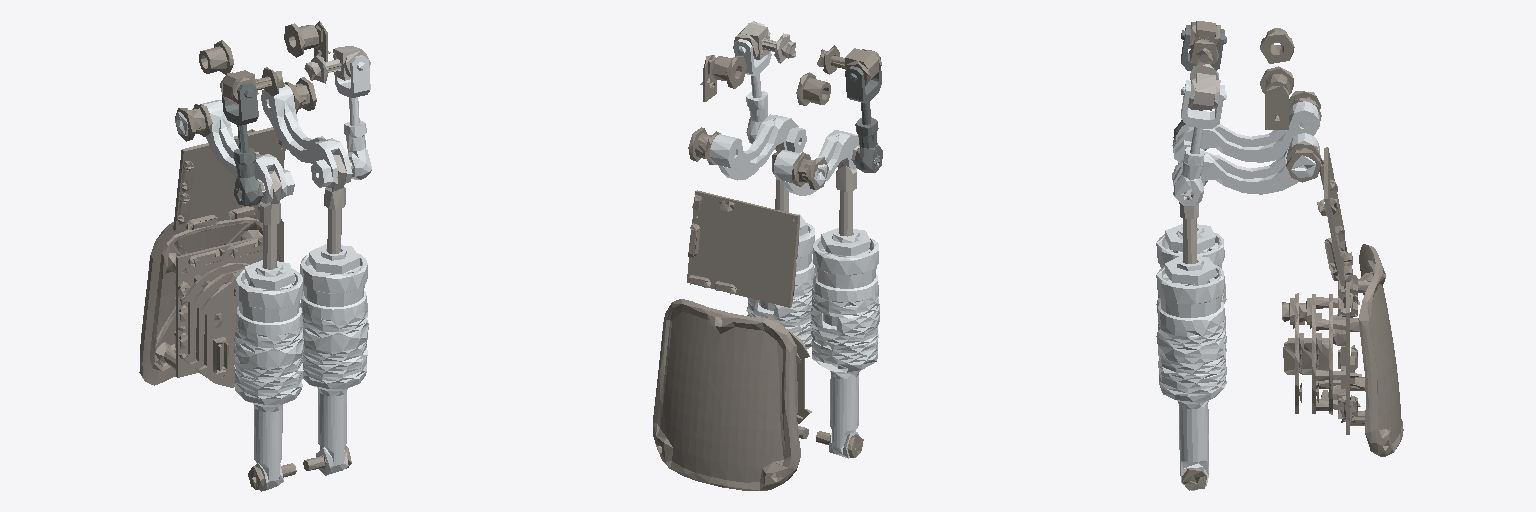
The robot description file, URDF, robot "left_wrist_mechanism":
<robot name="left_wrist_mechanism">
  <joint name="ALWristAL1" type="revolute">
    <origin xyz="0.0155 -0.034 -0.178" rpy="1.5885 0.0 0.0"/>
    <axis xyz="1.0 0.0 0.0"/>
    <parent link="ALWristRoot_Link"/>
    <child link="ALWristAL1_Link"/>
    <limit effort="400.0" lower="-1.57" upper="1.57" velocity="3.1415926"/>
  </joint>
  <link name="ALWristAL1_Link">
    <inertial>
      <origin xyz="4.69848839836778e-06 0.0605130022183077 8.23954439692215e-05" rpy="0.0 0.0 0.0"/>
      <mass value="0.110279568172128"/>
      <inertia ixx="1.426060228931759e-05" ixy="-1.1829530729395678e-10" ixz="-1.5559842262297789e-09" iyy="1.0001497220685684e-05" iyz="-8.070848171024899e-08" izz="1.4350648635894694e-05"/>
    </inertial>
    <visual name="ALWristAL1_Link_Visual">
      <origin xyz="0.0 0.0 0.0" rpy="0.0 0.0 0.0"/>
      <geometry>
        <mesh filename="../meshes/lfs-stl/ALWrist_AL1_Link.stl"/>
      </geometry>
      <material name="">
        <color rgba="0.898039215686275 0.917647058823529 0.929411764705882 1.0"/>
      </material>
    </visual>
    <collision name="ALWristAL1_Link_Collision">
      <origin xyz="0.0 0.0 0.0" rpy="0.0 0.0 0.0"/>
      <geometry>
        <mesh filename="../meshes/lfs-stl/ALWrist_AL1_Link_convexhull.stl" scale="1.0 1.0 1.0"/>
      </geometry>
    </collision>
  </link>
  <joint name="ALWristAR1" type="revolute">
    <origin xyz="-0.0155 -0.034 -0.178" rpy="1.5885 0.0 0.0"/>
    <axis xyz="1.0 0.0 0.0"/>
    <parent link="ALWristRoot_Link"/>
    <child link="ALWristAR1_Link"/>
    <limit effort="400.0" lower="-1.57" upper="1.57" velocity="3.1415926"/>
  </joint>
  <link name="ALWristAR1_Link">
    <inertial>
      <origin xyz="1.0632e-07 0.058479 9.3561e-05" rpy="0.0 0.0 0.0"/>
      <mass value="0.10113"/>
      <inertia ixx="1.4212213742562422e-05" ixy="-1.1886000000000004e-10" ixz="-1.4829999999999594e-10" iyy="1.000151374256242e-05" iyz="-8.070899999999586e-08" izz="1.4303213742562425e-05"/>
    </inertial>
    <visual name="ALWristAR1_Link_Visual">
      <origin xyz="0.0 0.0 0.0" rpy="0.0 0.0 0.0"/>
      <geometry>
        <mesh filename="../meshes/lfs-stl/ALWrist_AR1_Link.stl"/>
      </geometry>
      <material name="">
        <color rgba="0.89804 0.91765 0.92941 1.0"/>
      </material>
    </visual>
    <collision name="ALWristAR1_Link_Collision">
      <origin xyz="0.0 0.0 0.0" rpy="0.0 0.0 0.0"/>
      <geometry>
        <mesh filename="../meshes/lfs-stl/ALWrist_AR1_Link_convexhull.stl" scale="1.0 1.0 1.0"/>
      </geometry>
    </collision>
  </link>
  <joint name="ALWristActL" type="prismatic">
    <origin xyz="0.0 0.13346 0.0" rpy="-1.5708 0.0 0.0"/>
    <axis xyz="0.0 0.0 1.0"/>
    <parent link="ALWristAL1_Link"/>
    <child link="ALWristActL_Link"/>
    <limit effort="400.0" lower="-1.57" upper="1.57" velocity="3.1415926"/>
  </joint>
  <link name="ALWristActL_Link">
    <inertial>
      <origin xyz="1.6961e-10 -3.3309e-11 -0.049176" rpy="0.0 0.0 0.0"/>
      <mass value="0.022415"/>
      <inertia ixx="2.2515570000000003e-05" ixy="-8.666700000001066e-16" ixz="7.960299999999999e-17" iyy="2.2496570000000005e-05" iyz="2.9215000273952845e-15" izz="1e-05"/>
    </inertial>
    <visual name="ALWristActL_Link_Visual">
      <origin xyz="0.0 0.0 0.0" rpy="0.0 0.0 0.0"/>
      <geometry>
        <mesh filename="../meshes/lfs-stl/ALWrist_ActL_Link.stl"/>
      </geometry>
      <material name="">
        <color rgba="0.77647 0.75686 0.73725 1.0"/>
      </material>
    </visual>
    <collision name="ALWristActL_Link_Collision">
      <origin xyz="0.0 0.0 0.0" rpy="0.0 0.0 0.0"/>
      <geometry>
        <mesh filename="../meshes/lfs-stl/ALWrist_ActL_Link_convexhull.stl" scale="1.0 1.0 1.0"/>
      </geometry>
    </collision>
  </link>
  <joint name="ALWristActR" type="prismatic">
    <origin xyz="0.0 0.13346 0.0" rpy="-1.5708 0.0 0.0"/>
    <axis xyz="0.0 0.0 1.0"/>
    <parent link="ALWristAR1_Link"/>
    <child link="ALWristActR_Link"/>
    <limit effort="400.0" lower="-1.57" upper="1.57" velocity="3.1415926"/>
  </joint>
  <link name="ALWristActR_Link">
    <inertial>
      <origin xyz="-2.50423902101171e-10 -5.99230387532401e-12 -0.0491763872735069" rpy="0.0 0.0 0.0"/>
      <mass value="0.0224154782060298"/>
      <inertia ixx="2.251577391703877e-05" ixy="-8.666685437716609e-16" ixz="7.959775514672119e-17" iyy="2.249645939989927e-05" iyz="2.9215994791528672e-15" izz="1e-05"/>
    </inertial>
    <visual name="ALWristActR_Link_Visual">
      <origin xyz="0.0 0.0 0.0" rpy="0.0 0.0 0.0"/>
      <geometry>
        <mesh filename="../meshes/lfs-stl/ALWrist_ActR_Link.stl"/>
      </geometry>
      <material name="">
        <color rgba="0.776470588235294 0.756862745098039 0.737254901960784 1.0"/>
      </material>
    </visual>
    <collision name="ALWristActR_Link_Collision">
      <origin xyz="0.0 0.0 0.0" rpy="0.0 0.0 0.0"/>
      <geometry>
        <mesh filename="../meshes/lfs-stl/ALWrist_ActR_Link_convexhull.stl" scale="1.0 1.0 1.0"/>
      </geometry>
    </collision>
  </link>
  <joint name="ALWristBL0" type="revolute">
    <origin xyz="0.0 0.0 0.045018" rpy="0.0 0.0 0.0"/>
    <axis xyz="1.0 0.0 0.0"/>
    <parent link="ALWristBL3_Link"/>
    <child link="ALWristBL0_Link"/>
    <limit effort="400.0" lower="-1.57" upper="1.57" velocity="3.1415926"/>
  </joint>
  <link name="ALWristBL0_Link">
    <inertial>
      <origin xyz="0.0 0.0 0.0" rpy="0.0 0.0 0.0"/>
      <mass value="1e-05"/>
      <inertia ixx="1e-05" ixy="0.0" ixz="0.0" iyy="1e-05" iyz="0.0" izz="1e-05"/>
    </inertial>
  </link>
  <joint name="ALWristBL1" type="revolute">
    <origin xyz="0.0155 0.011 -0.032" rpy="-2.8824 0.0 0.0"/>
    <axis xyz="1.0 0.0 0.0"/>
    <parent link="ALWristRoot_Link"/>
    <child link="ALWristBL1_Link"/>
    <limit effort="400.0" lower="-1.57" upper="1.57" velocity="3.1415926"/>
  </joint>
  <link name="ALWristBL1_Link">
    <inertial>
      <origin xyz="0.0019151 0.02635 0.0010414" rpy="0.0 0.0 0.0"/>
      <mass value="0.024008"/>
      <inertia ixx="1.3690309326298155e-05" ixy="-2.58529999998267e-13" ixz="-8.119499999914014e-14" iyy="1.0041289326298152e-05" iyz="3.8667999999999843e-07" izz="1.3621309326298154e-05"/>
    </inertial>
    <visual name="ALWristBL1_Link_Visual">
      <origin xyz="0.0 0.0 0.0" rpy="0.0 0.0 0.0"/>
      <geometry>
        <mesh filename="../meshes/lfs-stl/ALWrist_BL1_Link.stl"/>
      </geometry>
      <material name="">
        <color rgba="0.89804 0.91765 0.92941 1.0"/>
      </material>
    </visual>
    <collision name="ALWristBL1_Link_Collision">
      <origin xyz="0.0 0.0 0.0" rpy="0.0 0.0 0.0"/>
      <geometry>
        <mesh filename="../meshes/lfs-stl/ALWrist_BL1_Link_convexhull.stl" scale="1.0 1.0 1.0"/>
      </geometry>
    </collision>
  </link>
  <joint name="ALWristBL2" type="revolute">
    <origin xyz="0.0 0.0 0.0" rpy="0.0 0.0 0.0"/>
    <axis xyz="0.0 1.0 0.0"/>
    <parent link="ALWristBL0_Link"/>
    <child link="ALWristBL2_Link"/>
    <limit effort="400.0" lower="-1.57" upper="1.57" velocity="3.1415926"/>
  </joint>
  <link name="ALWristBL2_Link">
    <inertial>
      <origin xyz="-0.00285895892979633 1.59419756701196e-08 4.93600032917541e-05" rpy="0.0 0.0 0.0"/>
      <mass value="0.00373058333172257"/>
      <inertia ixx="1.0000022086306678e-05" ixy="-2.1170777449156144e-13" ixz="1.2800661535321242e-09" iyy="1.0074214747460805e-05" iyz="-3.1071812995088624e-13" izz="1.0074189380048775e-05"/>
    </inertial>
    <visual name="ALWristBL2_Link_Visual">
      <origin xyz="0.0 0.0 0.0" rpy="0.0 0.0 0.0"/>
      <geometry>
        <mesh filename="../meshes/lfs-stl/ALWrist_BL2_Link.stl"/>
      </geometry>
      <material name="">
        <color rgba="0.647058823529412 0.619607843137255 0.588235294117647 1.0"/>
      </material>
    </visual>
    <collision name="ALWristBL2_Link_Collision">
      <origin xyz="0.0 0.0 0.0" rpy="0.0 0.0 0.0"/>
      <geometry>
        <mesh filename="../meshes/lfs-stl/ALWrist_BL2_Link_convexhull.stl" scale="1.0 1.0 1.0"/>
      </geometry>
    </collision>
  </link>
  <joint name="ALWristBL3" type="revolute">
    <origin xyz="0.0 0.0 0.0" rpy="0.0 -0.017255 0.0"/>
    <axis xyz="0.0 1.0 0.0"/>
    <parent link="ALWristBL4_Link"/>
    <child link="ALWristBL3_Link"/>
    <limit effort="400.0" lower="-1.57" upper="1.57" velocity="3.1415926"/>
  </joint>
  <link name="ALWristBL3_Link">
    <inertial>
      <origin xyz="2.38502552360881e-05 4.66313256272666e-08 0.0283017467527962" rpy="0.0 0.0 0.0"/>
      <mass value="0.0163436688111198"/>
      <inertia ixx="1.0588437589385662e-05" ixy="2.6491888917750254e-12" ixz="3.971418402991697e-10" iyy="1.0442298027473029e-05" iyz="-1.0478564692762442e-11" izz="1.0000000268282943e-05"/>
    </inertial>
    <visual name="ALWristBL3_Link_Visual">
      <origin xyz="0.0 0.0 0.0" rpy="0.0 0.0 0.0"/>
      <geometry>
        <mesh filename="../meshes/lfs-stl/ALWrist_BL3_Link.stl"/>
      </geometry>
      <material name="">
        <color rgba="0.898039215686275 0.917647058823529 0.929411764705882 1.0"/>
      </material>
    </visual>
    <collision name="ALWristBL3_Link_Collision">
      <origin xyz="0.0 0.0 0.0" rpy="0.0 0.0 0.0"/>
      <geometry>
        <mesh filename="../meshes/lfs-stl/ALWrist_BL3_Link_convexhull.stl" scale="1.0 1.0 1.0"/>
      </geometry>
    </collision>
  </link>
  <joint name="ALWristBL4" type="revolute">
    <origin xyz="0.027 -0.03 0.0" rpy="2.9998 0.0 0.0"/>
    <axis xyz="1.0 0.0 0.0"/>
    <parent link="ALWristYaw_Link"/>
    <child link="ALWristBL4_Link"/>
    <limit effort="400.0" lower="-1.57" upper="1.57" velocity="3.1415926"/>
  </joint>
  <link name="ALWristBL4_Link">
    <inertial>
      <origin xyz="-0.00221364330903131 4.35096403350599e-12 -8.57685450439405e-13" rpy="0.0 0.0 0.0"/>
      <mass value="0.0116530368127355"/>
      <inertia ixx="1e-05" ixy="1.5953378838595036e-20" ixz="3.4058691933577745e-19" iyy="1.027752247888744e-05" iyz="-9.076929593055545e-16" izz="1.0188830976875939e-05"/>
    </inertial>
    <visual name="ALWristBL4_Link_Visual">
      <origin xyz="0.0 0.0 0.0" rpy="0.0 0.0 0.0"/>
      <geometry>
        <mesh filename="../meshes/lfs-stl/ALWrist_BL4_Link.stl"/>
      </geometry>
      <material name="">
        <color rgba="0.776470588235294 0.756862745098039 0.737254901960784 1.0"/>
      </material>
    </visual>
    <collision name="ALWristBL4_Link_Collision">
      <origin xyz="0.0 0.0 0.0" rpy="0.0 0.0 0.0"/>
      <geometry>
        <mesh filename="../meshes/lfs-stl/ALWrist_BL4_Link_convexhull.stl" scale="1.0 1.0 1.0"/>
      </geometry>
    </collision>
  </link>
  <joint name="ALWristBR0" type="revolute">
    <origin xyz="0.0 0.0 0.045018" rpy="0.0 0.0 0.0"/>
    <axis xyz="1.0 0.0 0.0"/>
    <parent link="ALWristBR3_Link"/>
    <child link="ALWristBR0_Link"/>
    <limit effort="400.0" lower="-1.57" upper="1.57" velocity="3.1415926"/>
  </joint>
  <link name="ALWristBR0_Link">
    <inertial>
      <origin xyz="0.0 0.0 0.0" rpy="0.0 0.0 0.0"/>
      <mass value="1e-05"/>
      <inertia ixx="1e-05" ixy="0.0" ixz="0.0" iyy="1e-05" iyz="0.0" izz="1e-05"/>
    </inertial>
  </link>
  <joint name="ALWristBR1" type="revolute">
    <origin xyz="-0.0155 0.011 -0.032" rpy="-2.8824 0.0 0.0"/>
    <axis xyz="1.0 0.0 0.0"/>
    <parent link="ALWristRoot_Link"/>
    <child link="ALWristBR1_Link"/>
    <limit effort="400.0" lower="-1.57" upper="1.57" velocity="3.1415926"/>
  </joint>
  <link name="ALWristBR1_Link">
    <inertial>
      <origin xyz="-0.0019151 0.02635 0.0010414" rpy="0.0 0.0 0.0"/>
      <mass value="0.024008"/>
      <inertia ixx="1.3690545308238603e-05" ixy="-1.148899999986299e-13" ixz="3.822099999976209e-14" iyy="1.0041345308238603e-05" iyz="3.8696e-07" izz="1.3621645308238606e-05"/>
    </inertial>
    <visual name="ALWristBR1_Link_Visual">
      <origin xyz="0.0 0.0 0.0" rpy="0.0 0.0 0.0"/>
      <geometry>
        <mesh filename="../meshes/lfs-stl/ALWrist_BR1_Link.stl"/>
      </geometry>
      <material name="">
        <color rgba="0.89804 0.91765 0.92941 1.0"/>
      </material>
    </visual>
    <collision name="ALWristBR1_Link_Collision">
      <origin xyz="0.0 0.0 0.0" rpy="0.0 0.0 0.0"/>
      <geometry>
        <mesh filename="../meshes/lfs-stl/ALWrist_BR1_Link_convexhull.stl" scale="1.0 1.0 1.0"/>
      </geometry>
    </collision>
  </link>
  <joint name="ALWristBR2" type="revolute">
    <origin xyz="0.0 0.0 0.0" rpy="0.0 0.0 0.0"/>
    <axis xyz="0.0 1.0 0.0"/>
    <parent link="ALWristBR0_Link"/>
    <child link="ALWristBR2_Link"/>
    <limit effort="400.0" lower="-1.57" upper="1.57" velocity="3.1415926"/>
  </joint>
  <link name="ALWristBR2_Link">
    <inertial>
      <origin xyz="-0.00285890746146323 2.16333476826813e-09 4.93604190743499e-05" rpy="0.0 0.0 0.0"/>
      <mass value="0.00373054475630146"/>
      <inertia ixx="1.000002209364975e-05" ixy="-1.3816128592343518e-13" ixz="1.2803063868888173e-09" iyy="1.0074212979026388e-05" iyz="-1.0109428273552697e-12" izz="1.0074192561095311e-05"/>
    </inertial>
    <visual name="ALWristBR2_Link_Visual">
      <origin xyz="0.0 0.0 0.0" rpy="0.0 0.0 0.0"/>
      <geometry>
        <mesh filename="../meshes/lfs-stl/ALWrist_BR2_Link.stl"/>
      </geometry>
      <material name="">
        <color rgba="0.647058823529412 0.619607843137255 0.588235294117647 1.0"/>
      </material>
    </visual>
    <collision name="ALWristBR2_Link_Collision">
      <origin xyz="0.0 0.0 0.0" rpy="0.0 0.0 0.0"/>
      <geometry>
        <mesh filename="../meshes/lfs-stl/ALWrist_BR2_Link_convexhull.stl" scale="1.0 1.0 1.0"/>
      </geometry>
    </collision>
  </link>
  <joint name="ALWristBR3" type="revolute">
    <origin xyz="0.0 0.0 0.0" rpy="0.0 -0.017255 0.0"/>
    <axis xyz="0.0 1.0 0.0"/>
    <parent link="ALWristBR4_Link"/>
    <child link="ALWristBR3_Link"/>
    <limit effort="400.0" lower="-1.57" upper="1.57" velocity="3.1415926"/>
  </joint>
  <link name="ALWristBR3_Link">
    <inertial>
      <origin xyz="2.38500712359466e-05 4.68942149695062e-08 0.0283017446065629" rpy="0.0 0.0 0.0"/>
      <mass value="0.0163436663117003"/>
      <inertia ixx="1.058843751107658e-05" ixy="3.883356249554021e-12" ixz="3.9714539909530543e-10" iyy="1.0442298557724912e-05" iyz="-9.93761778002401e-12" izz="1.0000000268262852e-05"/>
    </inertial>
    <visual name="ALWristBR3_Link_Visual">
      <origin xyz="0.0 0.0 0.0" rpy="0.0 0.0 0.0"/>
      <geometry>
        <mesh filename="../meshes/lfs-stl/ALWrist_BR3_Link.stl"/>
      </geometry>
      <material name="">
        <color rgba="0.529411764705882 0.549019607843137 0.549019607843137 1.0"/>
      </material>
    </visual>
    <collision name="ALWristBR3_Link_Collision">
      <origin xyz="0.0 0.0 0.0" rpy="0.0 0.0 0.0"/>
      <geometry>
        <mesh filename="../meshes/lfs-stl/ALWrist_BR3_Link_convexhull.stl" scale="1.0 1.0 1.0"/>
      </geometry>
    </collision>
  </link>
  <joint name="ALWristBR4" type="revolute">
    <origin xyz="-0.027 -0.03 0.0" rpy="-2.9998 0.0 -3.1416"/>
    <axis xyz="1.0 0.0 0.0"/>
    <parent link="ALWristYaw_Link"/>
    <child link="ALWristBR4_Link"/>
    <limit effort="400.0" lower="-1.57" upper="1.57" velocity="3.1415926"/>
  </joint>
  <link name="ALWristBR4_Link">
    <inertial>
      <origin xyz="-0.00221364330907749 -4.11274486689095e-12 8.10143618856785e-13" rpy="0.0 0.0 0.0"/>
      <mass value="0.0116530368127689"/>
      <inertia ixx="1e-05" ixy="-7.714431638365371e-20" ixz="-3.728723958847608e-19" iyy="1.027752247888592e-05" iyz="-9.04953782288128e-16" izz="1.018883097687764e-05"/>
    </inertial>
    <visual name="ALWristBR4_Link_Visual">
      <origin xyz="0.0 0.0 0.0" rpy="0.0 0.0 0.0"/>
      <geometry>
        <mesh filename="../meshes/lfs-stl/ALWrist_BR4_Link.stl"/>
      </geometry>
      <material name="">
        <color rgba="0.647058823529412 0.619607843137255 0.588235294117647 1.0"/>
      </material>
    </visual>
    <collision name="ALWristBR4_Link_Collision">
      <origin xyz="0.0 0.0 0.0" rpy="0.0 0.0 0.0"/>
      <geometry>
        <mesh filename="../meshes/lfs-stl/ALWrist_BR4_Link_convexhull.stl" scale="1.0 1.0 1.0"/>
      </geometry>
    </collision>
  </link>
  <joint name="ALWristPitch" type="revolute">
    <origin xyz="0.0 0.0 0.0" rpy="0.0 0.0 0.0"/>
    <axis xyz="1.0 0.0 0.0"/>
    <parent link="ALWristRoot_Link"/>
    <child link="ALWristPitch_Link"/>
    <limit effort="400.0" lower="-0.741" upper="1.75" velocity="3.1415926"/>
  </joint>
  <link name="ALWristPitch_Link">
    <inertial>
      <origin xyz="7.46248686255566e-19 -1.12543960307545e-16 -1.73472347597681e-18" rpy="0.0 0.0 0.0"/>
      <mass value="0.0303458029555441"/>
      <inertia ixx="1.0000000011242503e-05" ixy="-1.991593733750814e-21" ixz="1.3686128944734017e-10" iyy="1.0143779057796202e-05" iyz="1.3756897885334319e-10" izz="1.1666089364158581e-05"/>
    </inertial>
    <visual name="ALWristPitch_Link_Visual">
      <origin xyz="0.0 0.0 0.0" rpy="0.0 0.0 0.0"/>
      <geometry>
        <mesh filename="../meshes/lfs-stl/ALWristPitch_Link.stl"/>
      </geometry>
      <material name="">
        <color rgba="0.647058823529412 0.619607843137255 0.588235294117647 1.0"/>
      </material>
    </visual>
    <collision name="ALWristPitch_Link_Collision">
      <origin xyz="0.0 0.0 0.0" rpy="0.0 0.0 0.0"/>
      <geometry>
        <mesh filename="../meshes/lfs-stl/ALWristPitch_Link_convexhull.stl" scale="1.0 1.0 1.0"/>
      </geometry>
    </collision>
  </link>
  <link name="ALWristRoot_Link">
    <inertial>
      <origin xyz="-0.00087527 0.015651 -0.10982" rpy="0.0 0.0 0.0"/>
      <mass value="0.12307"/>
      <inertia ixx="1.6915e-05" ixy="-1.069e-08" ixz="-1.5838e-08" iyy="2.9632e-05" iyz="5.8916e-07" izz="1.3864e-05"/>
    </inertial>
    <visual name="ALWristRoot_Link_Visual">
      <origin xyz="0.0 0.0 0.0" rpy="0.0 0.0 0.0"/>
      <geometry>
        <mesh filename="../meshes/lfs-stl/ALWrist_Root_Link.stl"/>
      </geometry>
      <material name="">
        <color rgba="0.64706 0.61961 0.58824 1.0"/>
      </material>
    </visual>
    <collision name="ALWristRoot_Link_Collision">
      <origin xyz="0.0 0.0 0.0" rpy="0.0 0.0 0.0"/>
      <geometry>
        <mesh filename="../meshes/lfs-stl/ALWrist_Root_Link_convexhull.stl" scale="1.0 1.0 1.0"/>
      </geometry>
    </collision>
  </link>
  <joint name="ALWristYaw" type="revolute">
    <origin xyz="0.0 0.0 0.0" rpy="0.0 0.0 0.0"/>
    <axis xyz="0.0 1.0 0.0"/>
    <parent link="ALWristPitch_Link"/>
    <child link="ALWristYaw_Link"/>
    <limit effort="400.0" lower="-0.558" upper="0.593" velocity="3.1415926"/>
  </joint>
  <link name="ALWristYaw_Link">
    <inertial>
      <origin xyz="-5.96363888886987e-05 -0.0112217565403197 0.0117774710310118" rpy="0.0 0.0 0.0"/>
      <mass value="0.0440266507004541"/>
      <inertia ixx="1.452337454289961e-05" ixy="3.52232240231331e-09" ixz="1.8324292440025615e-08" iyy="1.0332756954026827e-05" iyz="-1.4768212974215518e-06" izz="1.655459170101281e-05"/>
    </inertial>
    <visual name="ALWristYaw_Link_Visual">
      <origin xyz="0.0 0.0 0.0" rpy="0.0 0.0 0.0"/>
      <geometry>
        <mesh filename="../meshes/lfs-stl/ALWristYaw_Link.stl"/>
      </geometry>
      <material name="">
        <color rgba="0.898039215686275 0.917647058823529 0.929411764705882 1.0"/>
      </material>
    </visual>
    <collision name="ALWristYaw_Link_Collision">
      <origin xyz="0.0 0.0 0.0" rpy="0.0 0.0 0.0"/>
      <geometry>
        <mesh filename="../meshes/lfs-stl/ALWristYaw_Link_convexhull.stl" scale="1.0 1.0 1.0"/>
      </geometry>
    </collision>
  </link>
</robot>

--- Render facts (derived) ---
Views: 3 orthographic renders of the robot side by side, from view 1: azimuth 30°, elevation 25°; view 2: azimuth 150°, elevation 25°; view 3: azimuth 270°, elevation 25°.
Model left_wrist_mechanism with 17 links and 16 joints (14 revolute, 2 prismatic), rooted at ALWristRoot_Link, posed every joint at zero.
Visible links, largest first — view 1: ALWristRoot_Link, ALWristAR1_Link, ALWristAL1_Link, ALWristBL1_Link, ALWristBR1_Link, ALWristBR3_Link, ALWristBL3_Link, ALWristActL_Link, ALWristActR_Link, ALWristBL4_Link, ALWristBR4_Link; view 2: ALWristRoot_Link, ALWristAR1_Link, ALWristBL1_Link, ALWristAL1_Link, ALWristBR3_Link, ALWristBR1_Link, ALWristBL3_Link, ALWristBR4_Link, ALWristBL4_Link, ALWristActR_Link; view 3: ALWristRoot_Link, ALWristAL1_Link, ALWristBR1_Link, ALWristBL1_Link, ALWristBL3_Link, ALWristAR1_Link, ALWristBL4_Link, ALWristBR4_Link, ALWristActL_Link, ALWristBR3_Link.
Boxes of the visible links, bbox=[...] form: ALWristRoot_Link: bbox=[139, 21, 351, 489]; ALWristAR1_Link: bbox=[234, 260, 303, 491]; ALWristAL1_Link: bbox=[300, 244, 368, 475]; ALWristBL1_Link: bbox=[261, 84, 352, 187]; ALWristBR1_Link: bbox=[175, 100, 294, 203]; ALWristBR3_Link: bbox=[221, 78, 262, 206]; ALWristBL3_Link: bbox=[333, 54, 371, 179]; ALWristActL_Link: bbox=[324, 155, 346, 253]; ALWristActR_Link: bbox=[259, 170, 281, 269]; ALWristBL4_Link: bbox=[304, 46, 370, 83]; ALWristBR4_Link: bbox=[220, 67, 284, 106]; ALWristRoot_Link: bbox=[653, 55, 863, 490]; ALWristAR1_Link: bbox=[810, 228, 879, 458]; ALWristBL1_Link: bbox=[710, 114, 806, 180]; ALWristAL1_Link: bbox=[746, 214, 814, 348]; ALWristBR3_Link: bbox=[845, 50, 882, 172]; ALWristBR1_Link: bbox=[774, 130, 878, 195]; ALWristBL3_Link: bbox=[734, 23, 771, 143]; ALWristBR4_Link: bbox=[817, 45, 881, 85]; ALWristBL4_Link: bbox=[733, 21, 795, 63]; ALWristActR_Link: bbox=[836, 161, 856, 368]; ALWristRoot_Link: bbox=[1182, 28, 1403, 490]; ALWristAL1_Link: bbox=[1156, 255, 1226, 490]; ALWristBR1_Link: bbox=[1173, 101, 1319, 162]; ALWristBL1_Link: bbox=[1173, 133, 1319, 199]; ALWristBL3_Link: bbox=[1173, 80, 1226, 205]; ALWristAR1_Link: bbox=[1156, 224, 1226, 440]; ALWristBL4_Link: bbox=[1188, 64, 1220, 110]; ALWristBR4_Link: bbox=[1189, 21, 1220, 64]; ALWristActL_Link: bbox=[1172, 170, 1198, 263]; ALWristBR3_Link: bbox=[1173, 25, 1226, 138].
Size in the robot's own frame: 0.0704 by 0.1018 by 0.192 metres.
Meshes: 15 distinct files referenced, 13 mesh visuals loaded (13 binary STL); not drawn: 2 (reference not matched to a file when rendering).